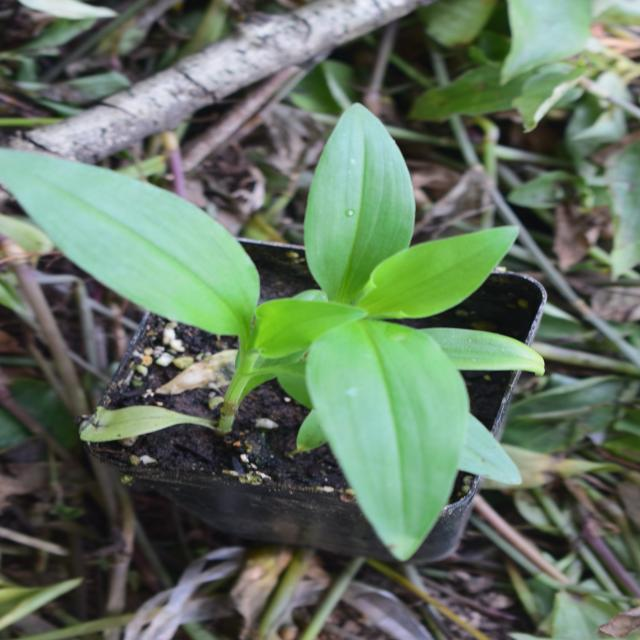Common Dayflower: (70, 262, 534, 537), (270, 4, 534, 261)
